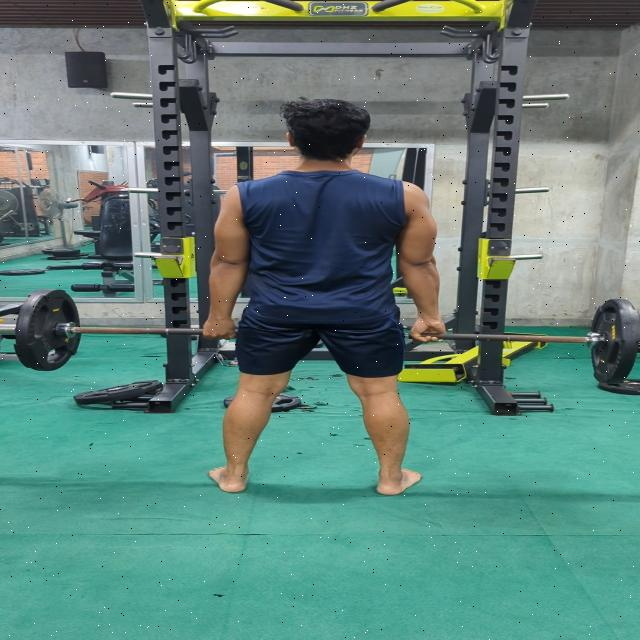Normal_Deadlifts: (195, 99, 450, 496)
